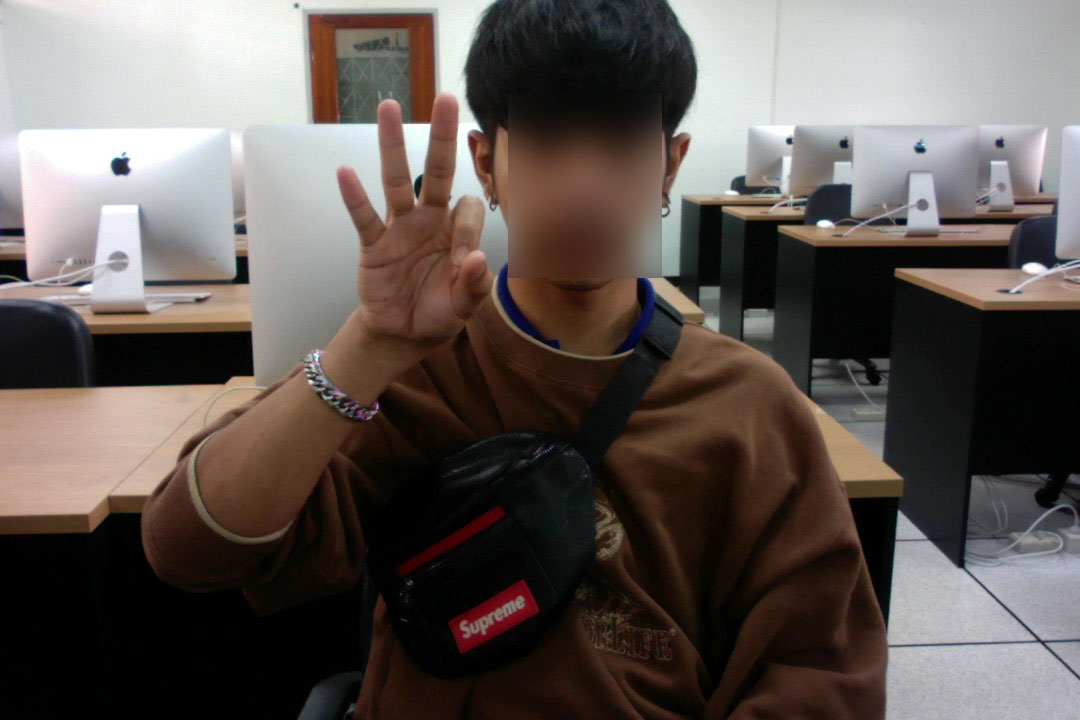for: (293, 61, 513, 366)
